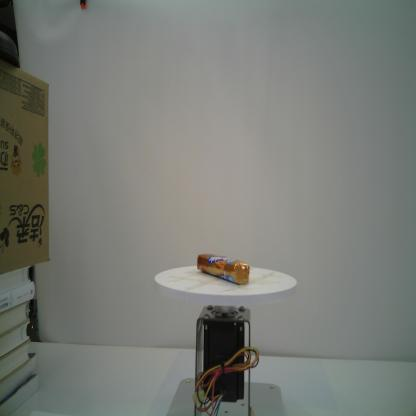Candy: (197, 252, 251, 286)
